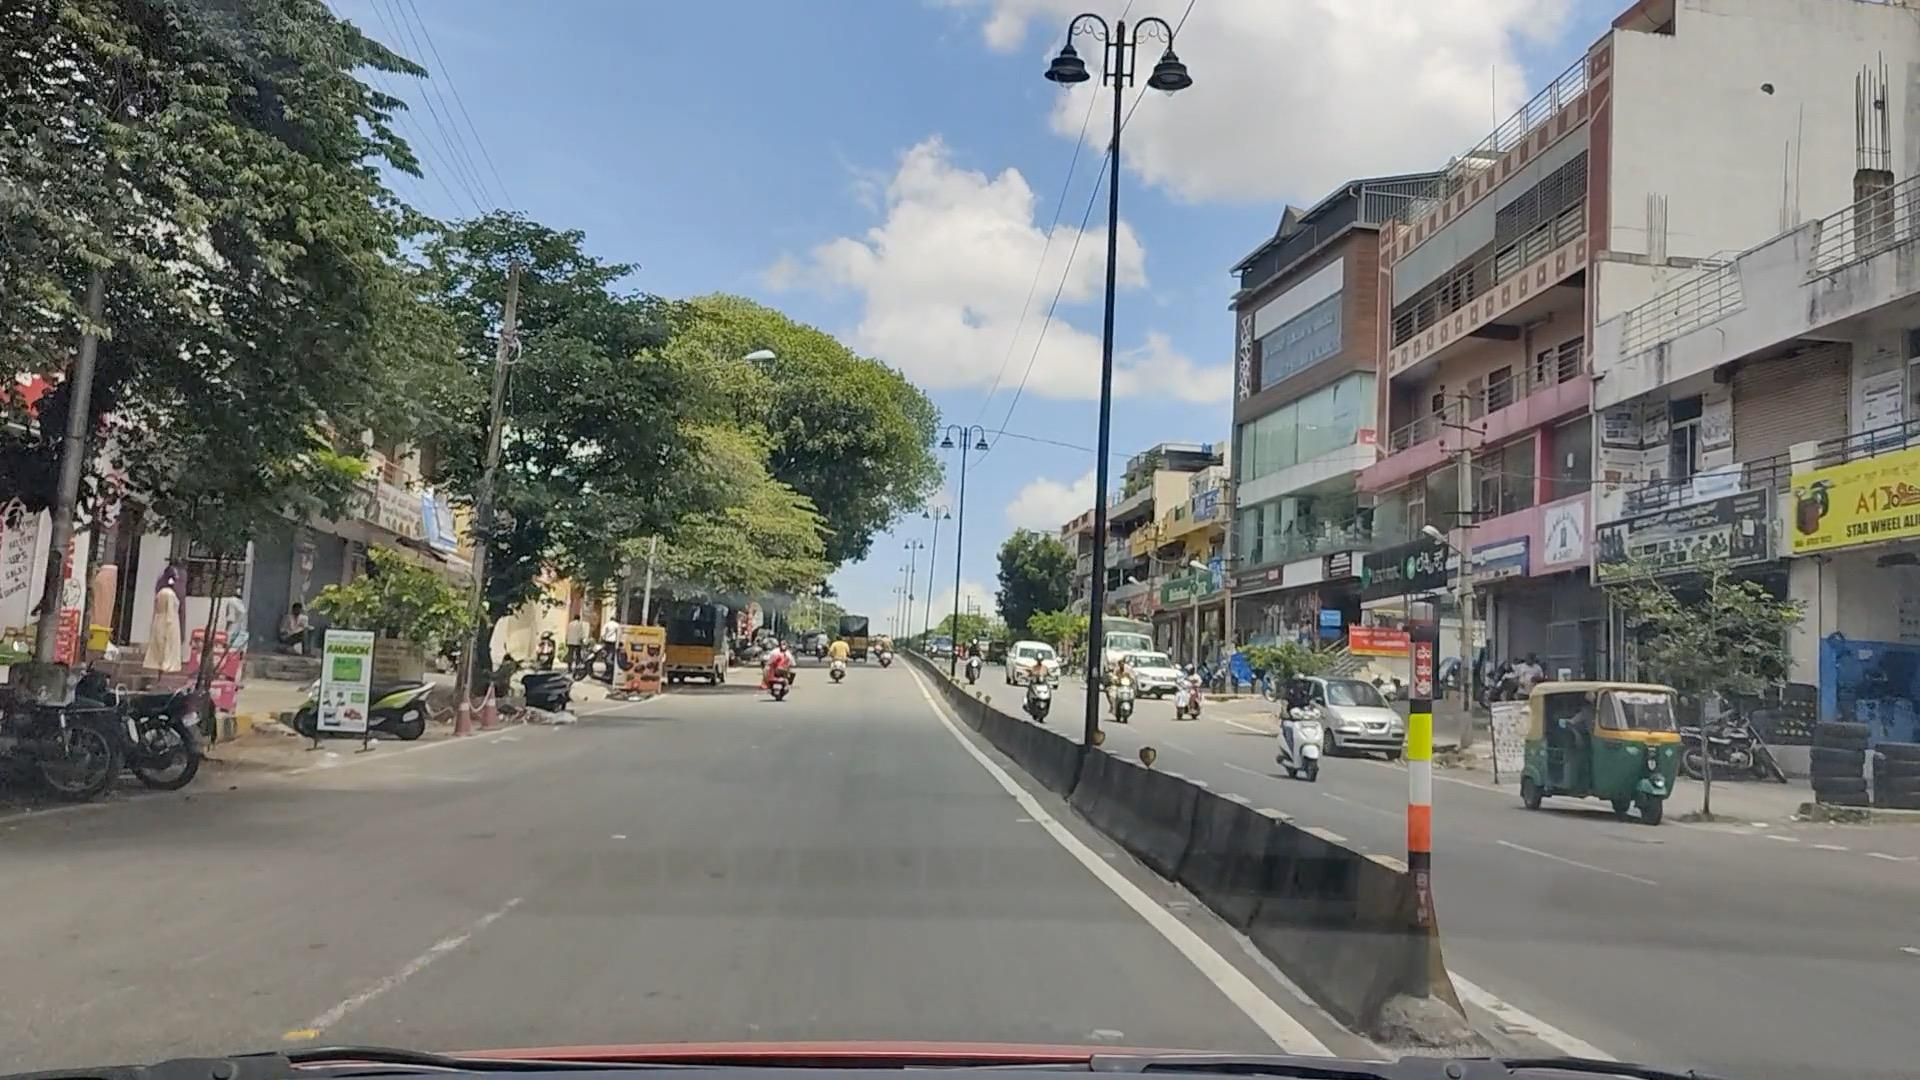LMV: (1540, 676, 1683, 795), (1283, 687, 1332, 782)
